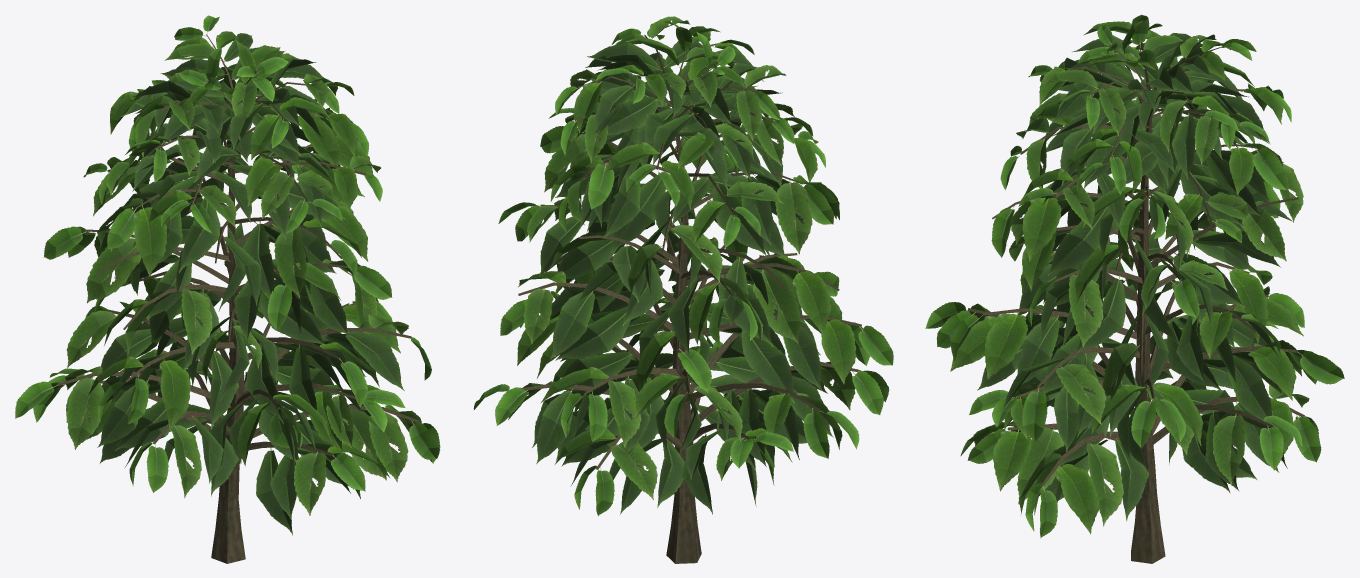
Rendered from P_Herb_00335.obj.
3 renders of one model, left to right at view 1: azimuth 30°, elevation 25°; view 2: azimuth 150°, elevation 25°; view 3: azimuth 270°, elevation 25°, orthographic. The views are drawn at different scales.
Size of the model in its own units: 0.7729 by 1.06 by 0.7512.
1 material, 1 textured.
